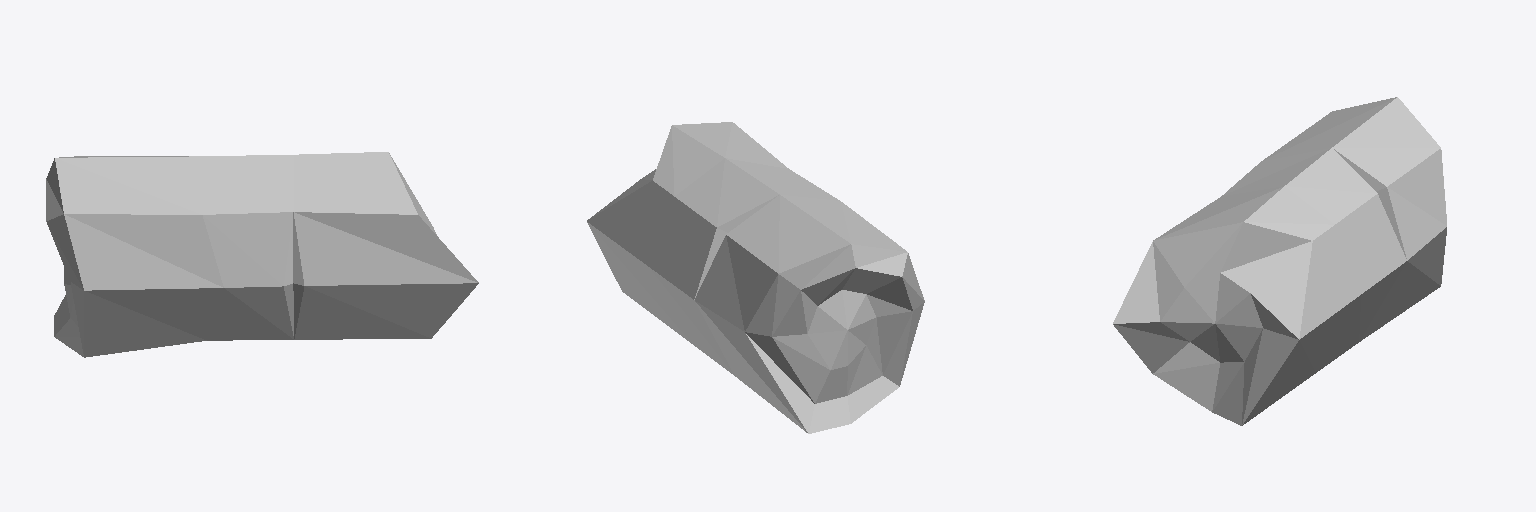
The model's file is WOH_Broken_Pillar_LyingDown2.obj.
The picture shows the model from 3 angles: view 1: azimuth 30°, elevation 25°; view 2: azimuth 150°, elevation 25°; view 3: azimuth 270°, elevation 25°; orthographic projection.
Parts seen in each view (by area): view 1: pCylinder24; view 2: pCylinder24; view 3: pCylinder24.
Part boxes in pixels (bbox=[...]): pCylinder24: bbox=[46, 152, 478, 357]; pCylinder24: bbox=[587, 122, 924, 433]; pCylinder24: bbox=[1113, 97, 1446, 425].
Size of the model in its own units: 169 by 84.33 by 143.